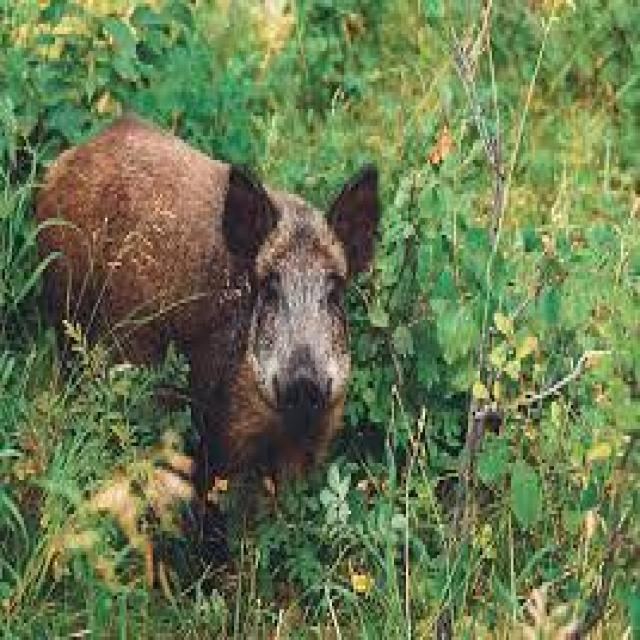Boar: (37, 117, 383, 533)
